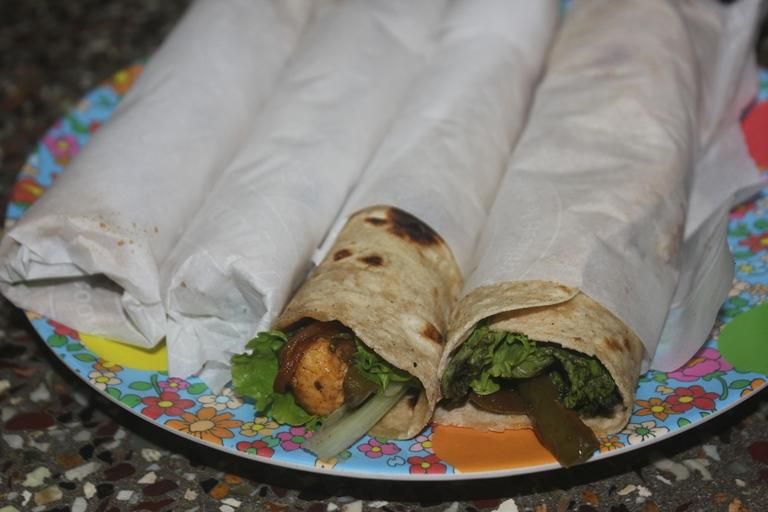roti: (277, 206, 462, 394), (439, 283, 644, 429)
